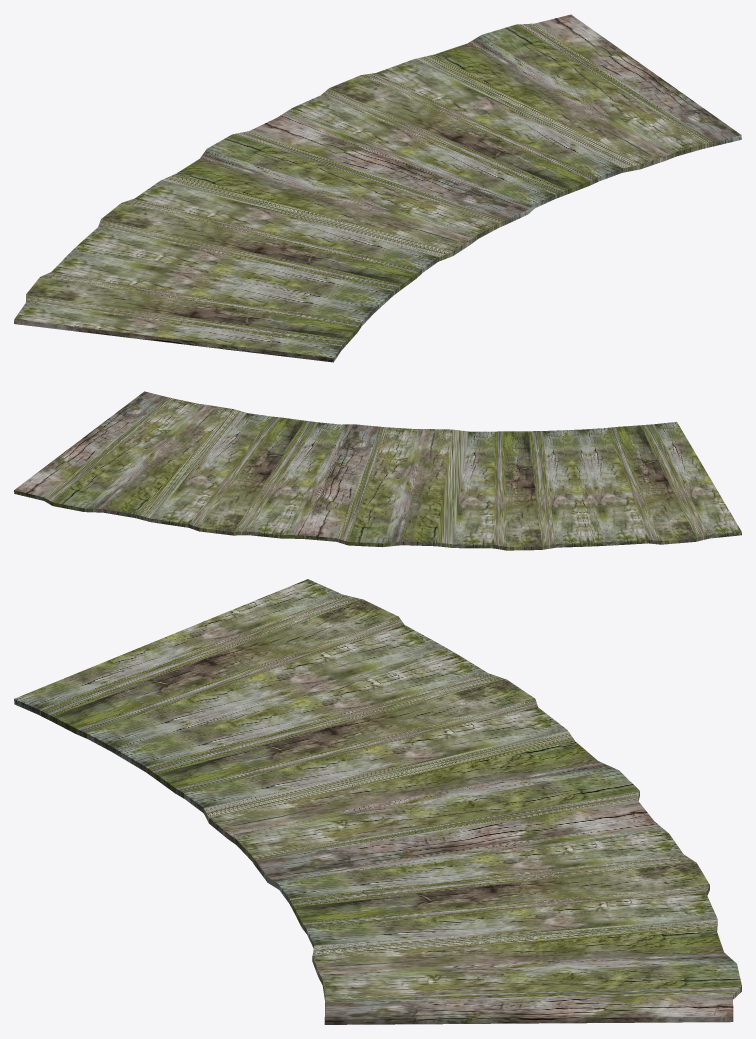
The model's file is GAMEOBJECT-27.fbx.
The picture shows the model from 3 angles, top to bottom: view 1: azimuth 30°, elevation 25°; view 2: azimuth 150°, elevation 25°; view 3: azimuth 270°, elevation 25°; orthographic projection. The views are drawn at different scales.
Parts seen in each view (by area): view 1: GameObject__27_; view 2: GameObject__27_; view 3: GameObject__27_.
Part boxes in pixels (box(x1,y1,x2,y2)): GameObject__27_: box(14, 14, 741, 362); GameObject__27_: box(14, 391, 741, 550); GameObject__27_: box(14, 579, 741, 1024).
Size of the model in its own units: 509 by 3 by 356.
